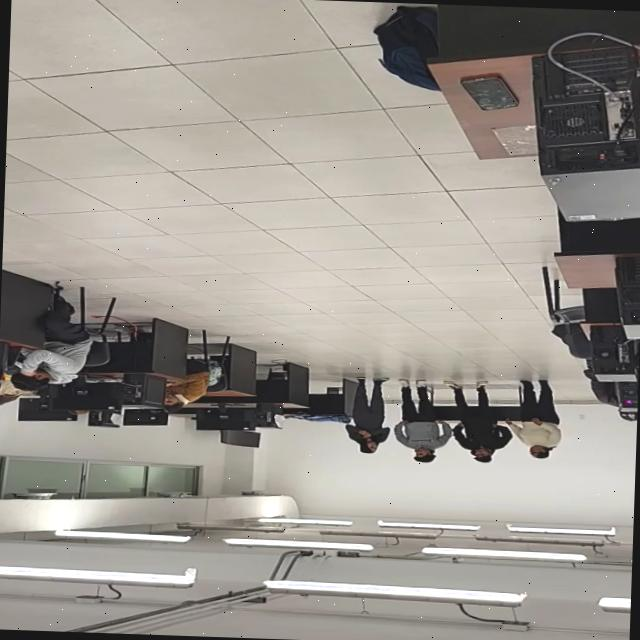Persona: (438, 379, 514, 464), (392, 378, 452, 463), (502, 378, 564, 460), (344, 375, 392, 454)
